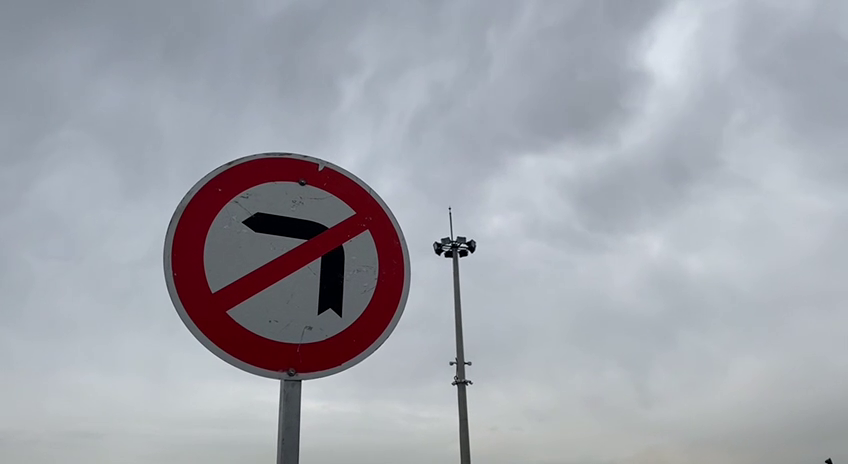noTurnLeft: (159, 148, 416, 382)
